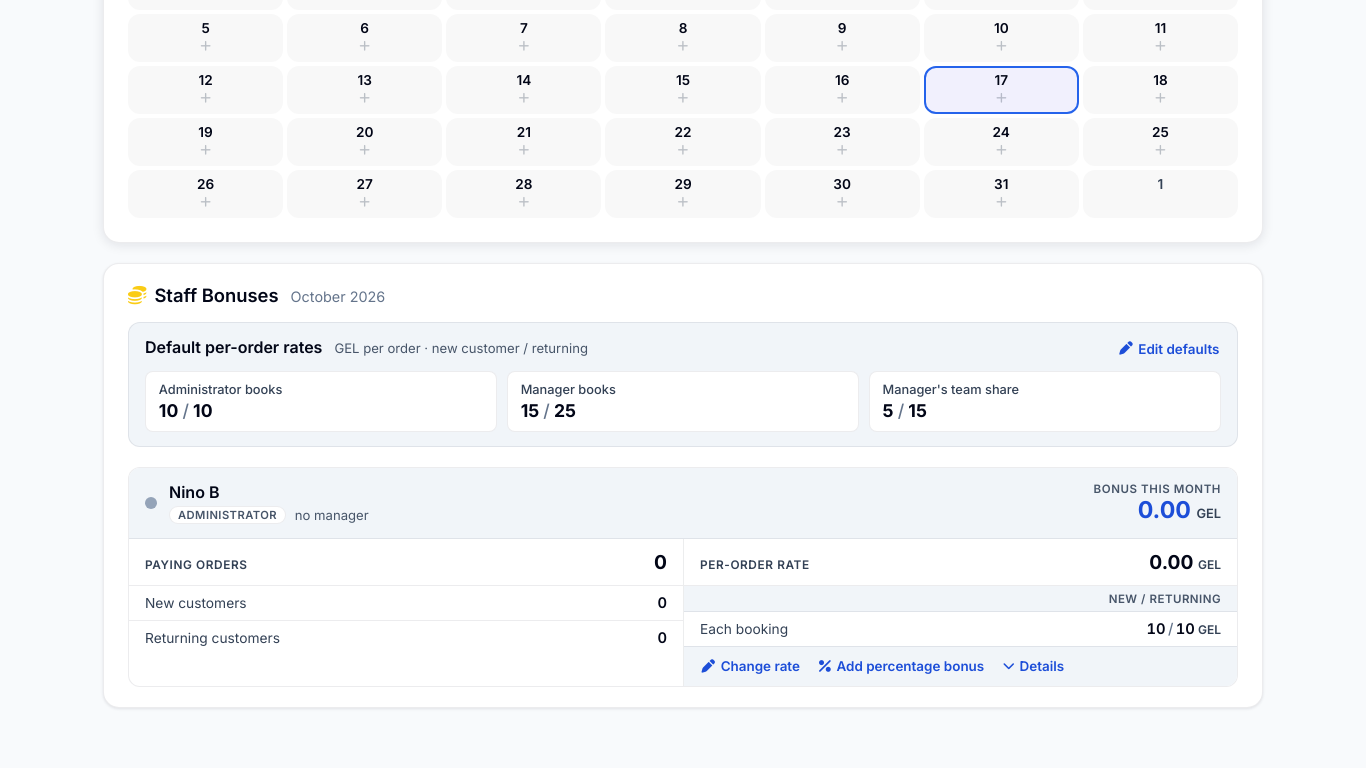
Test case: ShiftsComponent › one admin's orders › names a deep order "Deep" once — the deep-cleaning extra is not listed again under Extras
(page scrolled)
Click the button with class "bonus-details-btn" at (1034,666), box [1002,655,1066,678]
(page scrolled)
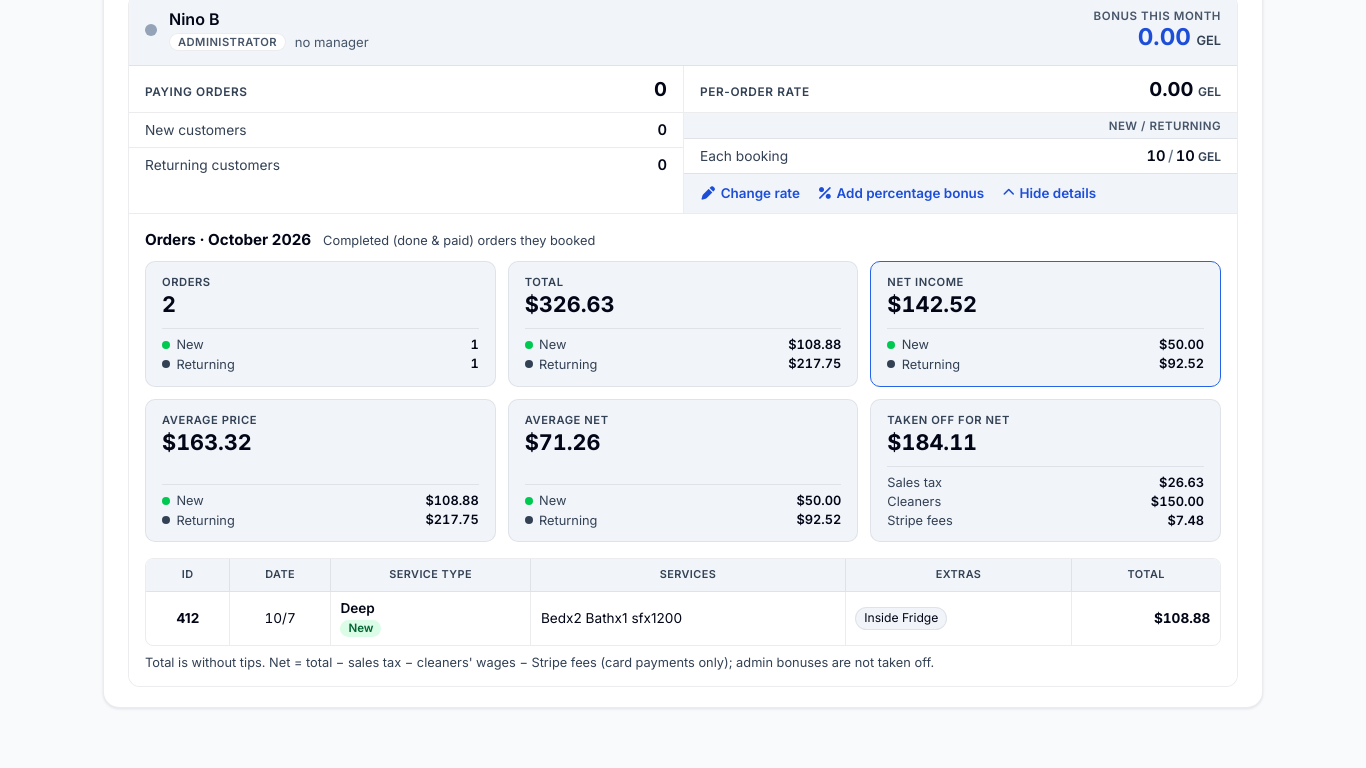
expect the cell with class "order-type" shows "Deep": met, box [340,600,375,616]
